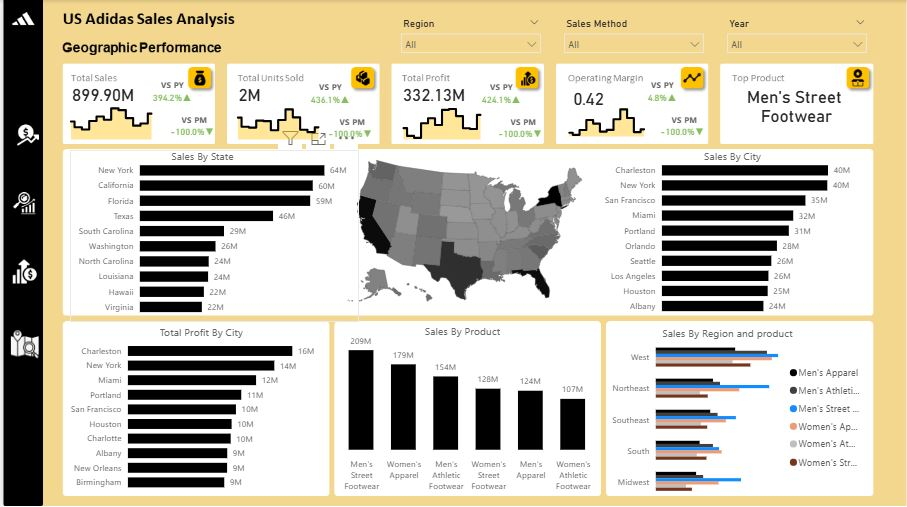

The page's visual inventory and layout, read from the dashboard file:
{"tool":"powerbi","page":{"name":"GEOGRAPHIC performance","canvas":[1280,720],"ordinal":3},"visuals":[{"type":"shapeMap","fields":{"Category":["Data Sales Adidas (2).State"]},"box":[456.9,211.7,396.4,231.8],"z":0},{"type":"barChart","fields":{"Category":["Data Sales Adidas (2).State"],"Y":["Sum(Data Sales Adidas (2).Total Sales)"]},"box":[95,212.6,409.6,243.8],"z":1000},{"type":"barChart","fields":{"Category":["Data Sales Adidas (2).City"],"Y":["Sum(Data Sales Adidas (2).Total Sales)"]},"box":[841.9,212.6,372.8,242.4],"z":2000},{"type":"barChart","fields":{"Category":["Data Sales Adidas (2).City"],"Y":["Sum(Data Sales Adidas (2).Operating Profit)"]},"box":[85,469.1,379.8,235.3],"z":3000},{"type":"hundredPercentStackedColumnChart","fields":{"Y":["Sum(Data Sales Adidas (2).Total Sales)"],"Category":["Data Sales Adidas (2).Region"],"Series":["Data Sales Adidas (2).Product"]},"box":[856.1,486.1,377,218.3],"z":4000},{"type":"clusteredColumnChart","fields":{"Category":["Data Sales Adidas (2).Product"],"Y":["Sum(Data Sales Adidas (2).Total Sales)"]},"box":[447.9,457.8,408.2,246.6],"z":5000},{"type":"card","fields":{"Values":["Data Sales Adidas (2).Total_Sales"]},"box":[70.9,107.7,141.7,52.4],"z":6000},{"type":"card","fields":{"Values":["Data Sales Adidas (2).Total_Units_Sold"]},"box":[309,106.3,80.8,53.9],"z":7000},{"type":"card","fields":{"Values":["Data Sales Adidas (2).Total_Profit"]},"box":[551.3,106.3,119.1,53.9],"z":8000},{"type":"card","fields":{"Values":["Data Sales Adidas (2).Averag_Operating_margin"]},"box":[763.9,117.6,131.8,42.5],"z":9000},{"type":"card","fields":{"Values":["Data Sales Adidas (2).Top Product Bought"]},"box":[1016.2,107.7,216.9,83.6],"z":10000},{"type":"shape","box":[928.3,457.8,197,28.3],"z":11000},{"type":"shape","box":[552.8,453.5,197,29.8],"z":12000},{"type":"shape","box":[184.3,206.9,197,28.3],"z":13000},{"type":"shape","box":[935.4,206.9,197,28.3],"z":14000},{"type":"shape","box":[183.1,456.9,196.5,28.6],"z":15000},{"type":"lineChart","fields":{"Y":["Sum(Data Sales Adidas (2).Total Sales)"],"Category":["Date_Table.Month"]},"box":[70.9,136.1,185.7,66.6],"z":16000},{"type":"lineChart","fields":{"Category":["Date_Table.Month"],"Y":["Data Sales Adidas (2).Total_Units_Sold"]},"box":[307.6,124.7,185.7,78],"z":17000},{"type":"lineChart","fields":{"Category":["Date_Table.Month"],"Y":["Data Sales Adidas (2).Total_Profit"]},"box":[542.8,138.9,178.6,63.8],"z":18000},{"type":"lineChart","fields":{"Category":["Date_Table.Month"],"Y":["Data Sales Adidas (2).Averag_Operating_margin"]},"box":[778.1,134.6,174.3,63.8],"z":19000},{"type":"shape","box":[202.7,106.3,75.1,28.3],"z":20000},{"type":"card","fields":{"Values":["Data Sales Adidas (2).YOY Sales"]},"box":[201.3,124.7,78,22.7],"z":21000},{"type":"shape","box":[233.9,155.9,75.1,28.3],"z":22000},{"type":"card","fields":{"Values":["Data Sales Adidas (2).MoM sales"]},"box":[229.6,172.9,78,22.7],"z":23000},{"type":"shape","box":[426.7,109.2,75.1,28.3],"z":24000},{"type":"card","fields":{"Values":["Data Sales Adidas (2).YOY Units"]},"box":[425.3,127.6,78,22.7],"z":25000},{"type":"shape","box":[457.9,158.8,75.1,28.3],"z":26000},{"type":"card","fields":{"Values":["Data Sales Adidas (2).MoM units"]},"box":[453.6,175.8,78,22.7],"z":27000},{"type":"shape","box":[669.1,109.2,75.1,28.3],"z":28000},{"type":"card","fields":{"Values":["Data Sales Adidas (2).YOY Profit"]},"box":[667.6,127.6,78,22.7],"z":29000},{"type":"shape","box":[700.2,158.8,75.1,28.3],"z":30000},{"type":"card","fields":{"Values":["Data Sales Adidas (2).MoM Profit"]},"box":[694.5,175.7,78,22.7],"z":31000},{"type":"shape","box":[897.2,106.3,75.1,28.3],"z":32000},{"type":"card","fields":{"Values":["Data Sales Adidas (2).YOY operating margin"]},"box":[895.8,124.8,78,22.7],"z":33000},{"type":"shape","box":[928.4,156,75.1,28.3],"z":34000},{"type":"card","fields":{"Values":["Data Sales Adidas (2).MoM Margin"]},"box":[924.2,173,78,22.7],"z":35000},{"type":"slicer","fields":{"Values":["Date_Table.Main_date.Variation.Date Hierarchy.Year","Date_Table.Main_date.Variation.Date Hierarchy.Quarter","Date_Table.Main_date.Variation.Date Hierarchy.Month","Date_Table.Main_date.Variation.Date Hierarchy.Day"]},"box":[1016.2,19.8,218.3,56.7],"z":36000},{"type":"slicer","fields":{"Values":["Data Sales Adidas (2).Sales Method"]},"box":[785.2,19.8,218.3,56.7],"z":37000},{"type":"slicer","fields":{"Values":["Data Sales Adidas (2).Region"]},"box":[554.2,19.8,218.3,56.7],"z":38000},{"type":"image","box":[0.5,170.1,70.9,41.1],"z":38001},{"type":"image","box":[2.5,266,55.3,42.5],"z":38002},{"type":"image","box":[2.5,363.3,55.3,43.9],"z":38003},{"type":"image","box":[2.5,462,55.3,52.4],"z":38004}]}

Visuals, with their boxes on the page's 1280x720 design canvas (x1, y1, x2, y2). These are canvas units, not pixel positions in the 907x507 screenshot, which may show the page scaled, cropped or inside an application window:
shapeMap - Data Sales Adidas (2).State: l=457, t=212, r=853, b=444
barChart - Data Sales Adidas (2).State x Sum(Data Sales Adidas (2).Total Sales): l=95, t=213, r=505, b=456
barChart - Data Sales Adidas (2).City x Sum(Data Sales Adidas (2).Total Sales): l=842, t=213, r=1215, b=455
barChart - Data Sales Adidas (2).City x Sum(Data Sales Adidas (2).Operating Profit): l=85, t=469, r=465, b=704
hundredPercentStackedColumnChart - Sum(Data Sales Adidas (2).Total Sales) x Data Sales Adidas (2).Region: l=856, t=486, r=1233, b=704
clusteredColumnChart - Data Sales Adidas (2).Product x Sum(Data Sales Adidas (2).Total Sales): l=448, t=458, r=856, b=704
card - Data Sales Adidas (2).Total_Sales: l=71, t=108, r=213, b=160
card - Data Sales Adidas (2).Total_Units_Sold: l=309, t=106, r=390, b=160
card - Data Sales Adidas (2).Total_Profit: l=551, t=106, r=670, b=160
card - Data Sales Adidas (2).Averag_Operating_margin: l=764, t=118, r=896, b=160
card - Data Sales Adidas (2).Top Product Bought: l=1016, t=108, r=1233, b=191
shape: l=928, t=458, r=1125, b=486
shape: l=553, t=454, r=750, b=483
shape: l=184, t=207, r=381, b=235
shape: l=935, t=207, r=1132, b=235
shape: l=183, t=457, r=380, b=486
lineChart - Sum(Data Sales Adidas (2).Total Sales) x Date_Table.Month: l=71, t=136, r=257, b=203
lineChart - Date_Table.Month x Data Sales Adidas (2).Total_Units_Sold: l=308, t=125, r=493, b=203
lineChart - Date_Table.Month x Data Sales Adidas (2).Total_Profit: l=543, t=139, r=721, b=203
lineChart - Date_Table.Month x Data Sales Adidas (2).Averag_Operating_margin: l=778, t=135, r=952, b=198
shape: l=203, t=106, r=278, b=135
card - Data Sales Adidas (2).YOY Sales: l=201, t=125, r=279, b=147
shape: l=234, t=156, r=309, b=184
card - Data Sales Adidas (2).MoM sales: l=230, t=173, r=308, b=196
shape: l=427, t=109, r=502, b=138
card - Data Sales Adidas (2).YOY Units: l=425, t=128, r=503, b=150
shape: l=458, t=159, r=533, b=187
card - Data Sales Adidas (2).MoM units: l=454, t=176, r=532, b=198
shape: l=669, t=109, r=744, b=138
card - Data Sales Adidas (2).YOY Profit: l=668, t=128, r=746, b=150
shape: l=700, t=159, r=775, b=187
card - Data Sales Adidas (2).MoM Profit: l=694, t=176, r=772, b=198
shape: l=897, t=106, r=972, b=135
card - Data Sales Adidas (2).YOY operating margin: l=896, t=125, r=974, b=148
shape: l=928, t=156, r=1004, b=184
card - Data Sales Adidas (2).MoM Margin: l=924, t=173, r=1002, b=196
slicer - Date_Table.Main_date.Variation.Date Hierarchy.Year x Date_Table.Main_date.Variation.Date Hierarchy.Quarter: l=1016, t=20, r=1234, b=76
slicer - Data Sales Adidas (2).Sales Method: l=785, t=20, r=1004, b=76
slicer - Data Sales Adidas (2).Region: l=554, t=20, r=772, b=76
image: l=0, t=170, r=71, b=211
image: l=2, t=266, r=58, b=308
image: l=2, t=363, r=58, b=407
image: l=2, t=462, r=58, b=514
